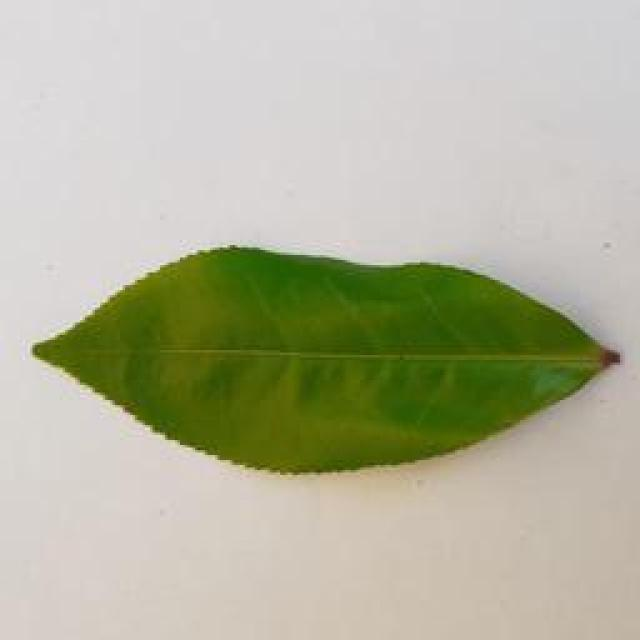Healthy: (22, 216, 635, 490)
